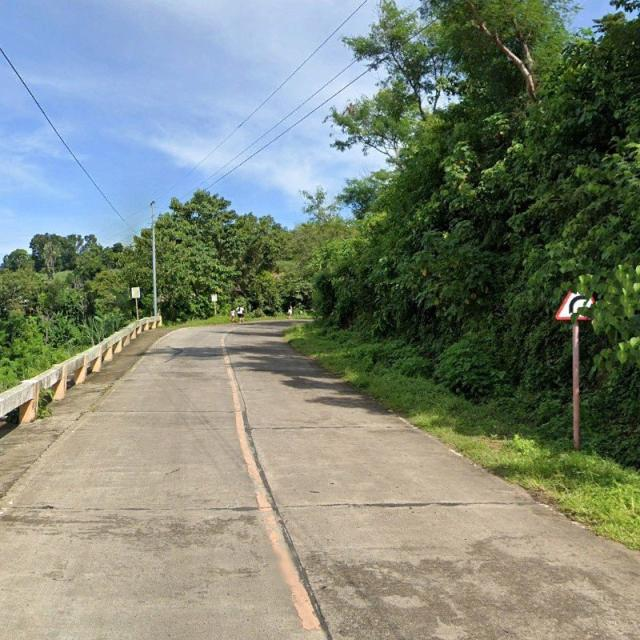warn_right_curve: (556, 270, 602, 320)
